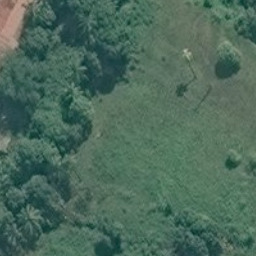buildings: (1, 1, 36, 76)
